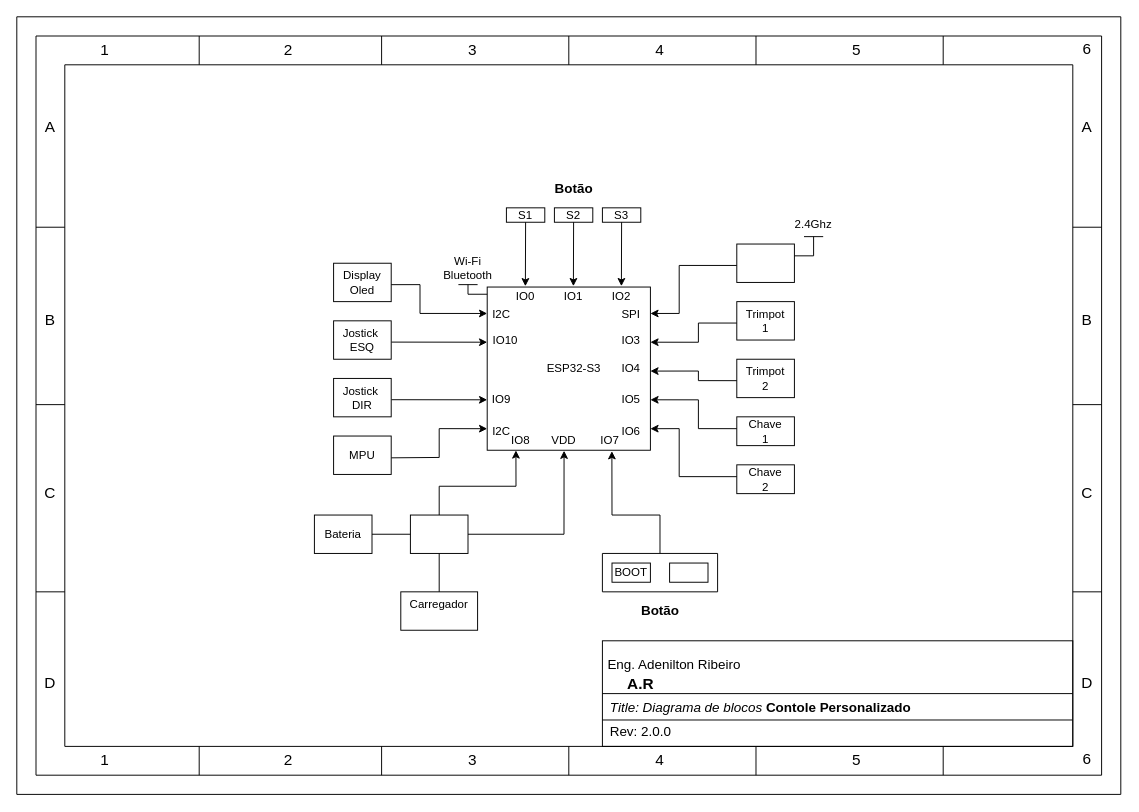
This 1139x812 diagram has some shape labels left out. Each missing label, with the centre of its shape:
"Drive de bateria" belongs at (x=438, y=533).
"EN" belongs at (x=688, y=572).
"RF 2.4Gh" belongs at (x=765, y=262).
